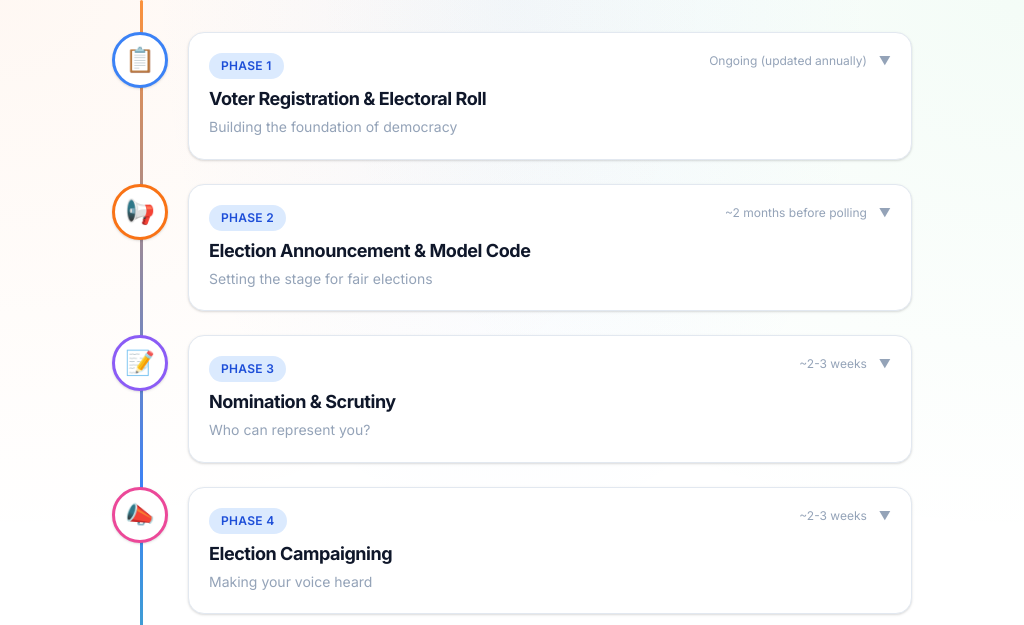
Scenario: ElectionTimeline › expands phase on click
What coordinates should you click on to do the following:
click the button "Voter Registration & Electoral Roll"
I would click on:
 (246, 66)
Its box is [189, 33, 911, 158].
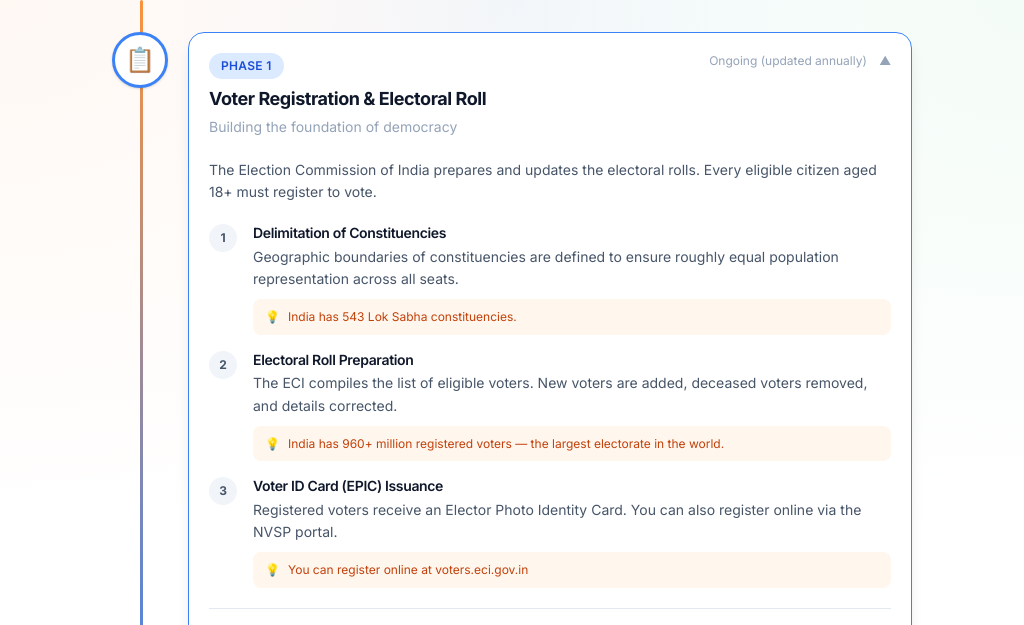
expect the heading "Delimitation of Constituencies" is shown: met, box [253, 224, 446, 241]
expect the heading "Electoral Roll Preparation" is shown: met, box [253, 350, 413, 368]
expect the heading "Voter ID Card (EPIC) Issuance" is shown: met, box [253, 477, 443, 494]
